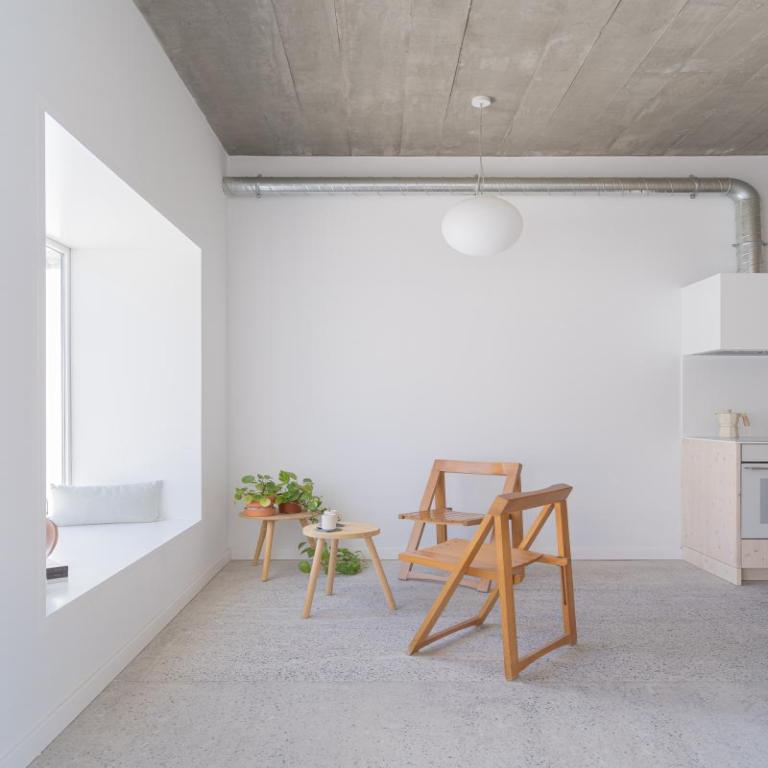white-walls: (211, 272, 656, 474)
